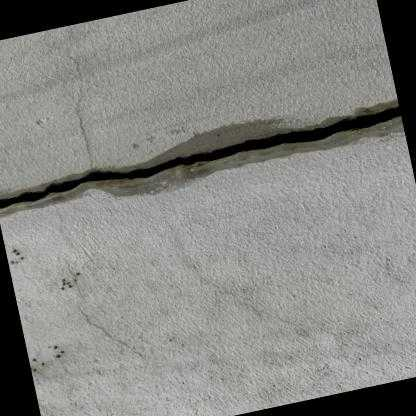crack: (0, 103, 402, 211)
